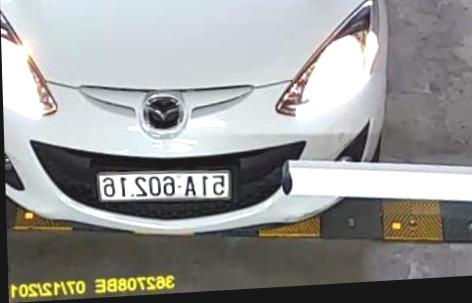License_Plate: (91, 165, 233, 215)
